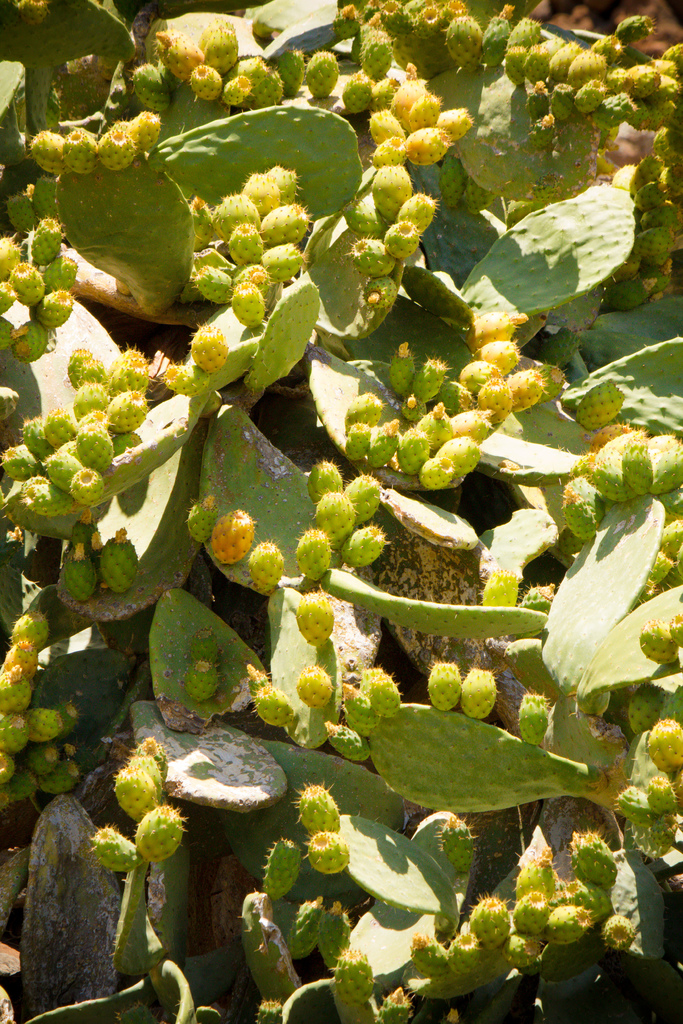person: (0, 0, 142, 143)
